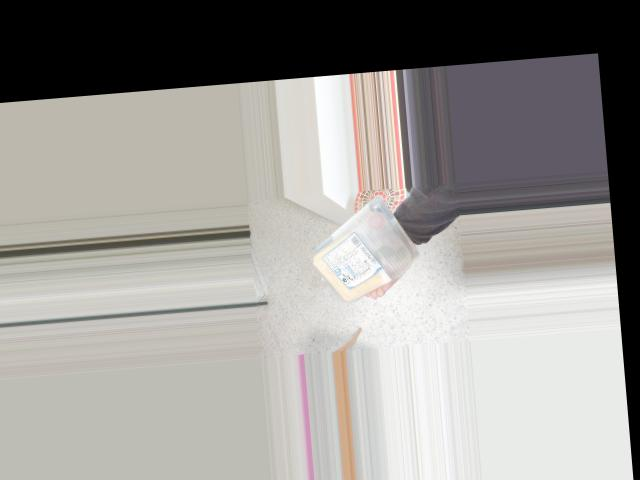cheese: (308, 235, 406, 294)
